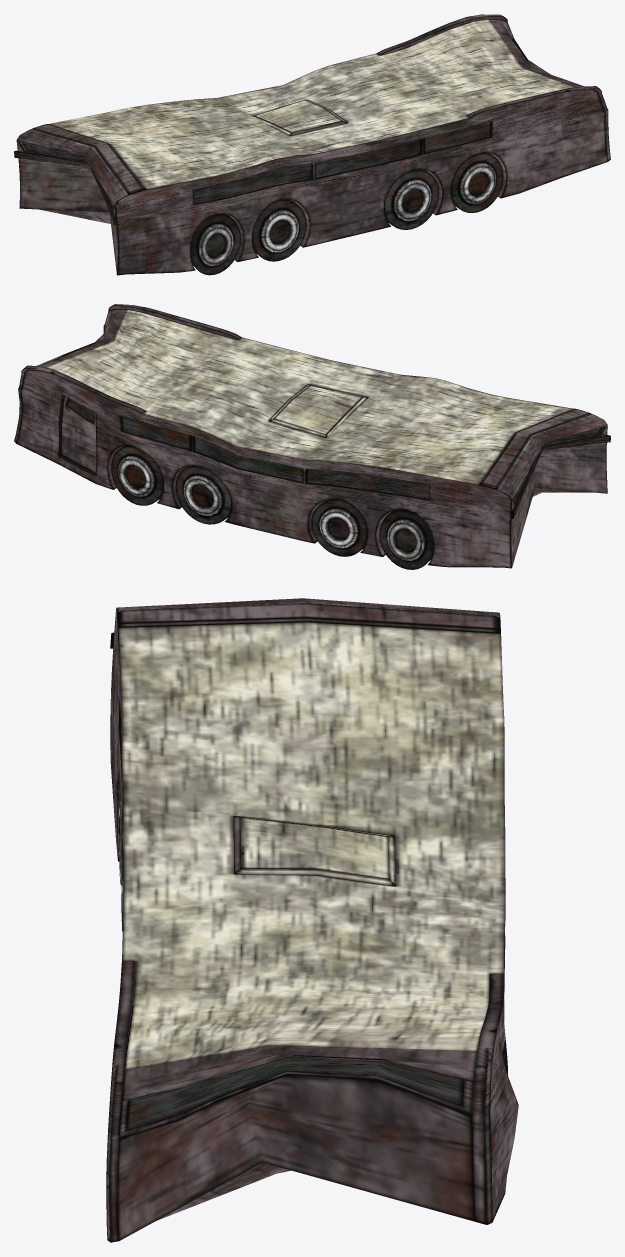
The model's file is Bus_03.fbx.
3 renders of one model, top to bottom at view 1: azimuth 30°, elevation 25°; view 2: azimuth 150°, elevation 25°; view 3: azimuth 270°, elevation 25°, orthographic. The views are drawn at different scales.
Visible parts, largest first — view 1: SM_Bus.03; view 2: SM_Bus.03; view 3: SM_Bus.03.
Part boxes in pixels (x1=…): SM_Bus.03: x1=14, y1=14, x2=610, y2=275; SM_Bus.03: x1=14, y1=304, x2=610, y2=569; SM_Bus.03: x1=106, y1=598, x2=518, y2=1242.
Bounding box in the file's own units: 607 × 138 × 217.
